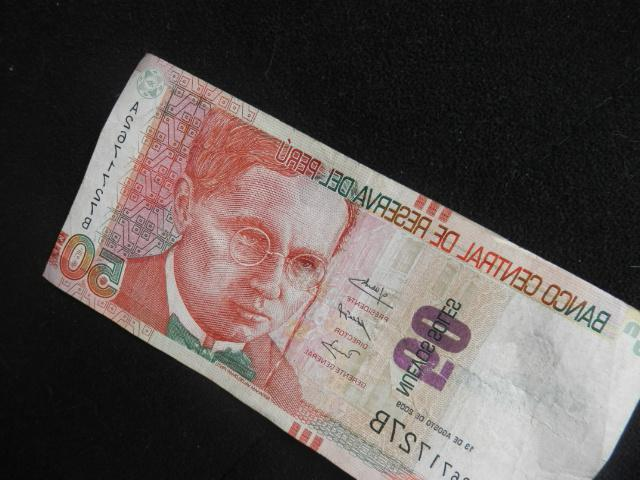B50: (43, 52, 640, 479)
